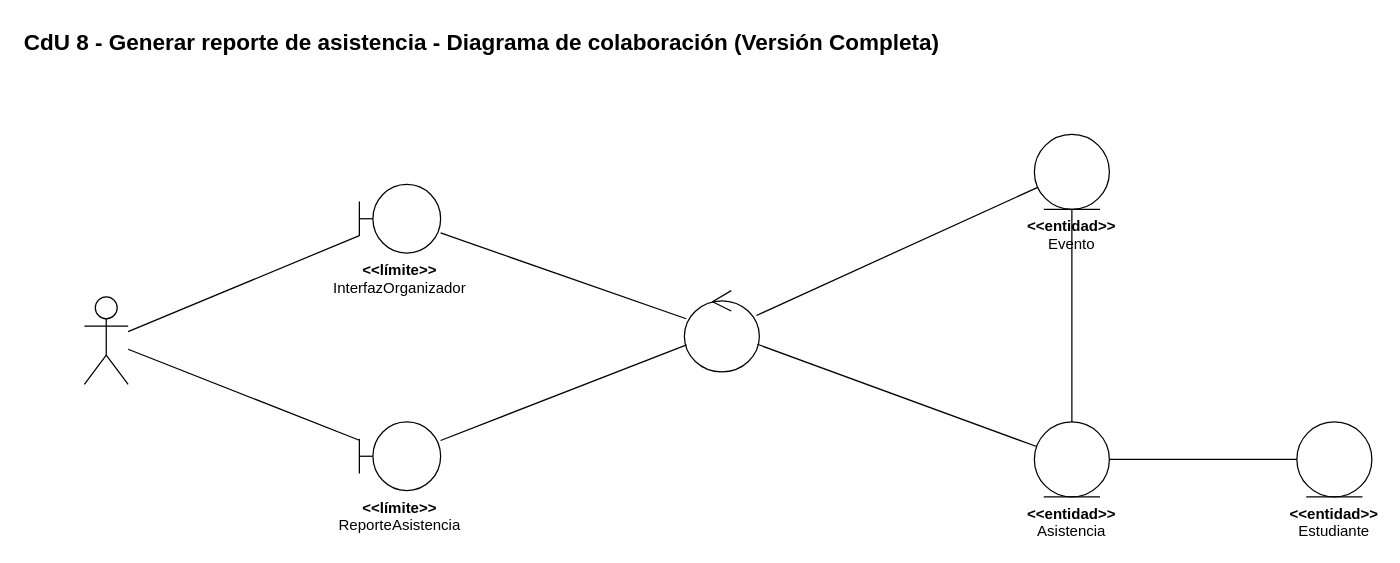
This 1400x563 diagram has some shape labels left out. Here are the shapes that lost their labels. From the top down, the centre of each, then its label:
At point (105, 340): "<<actor>> Organizador".
At point (721, 330): "<<control>> GestiónAsistencia".
